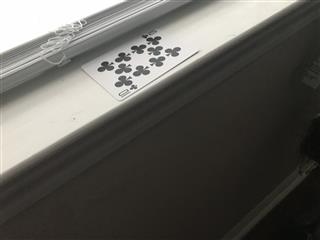TenOfClubs: (79, 25, 199, 101)
